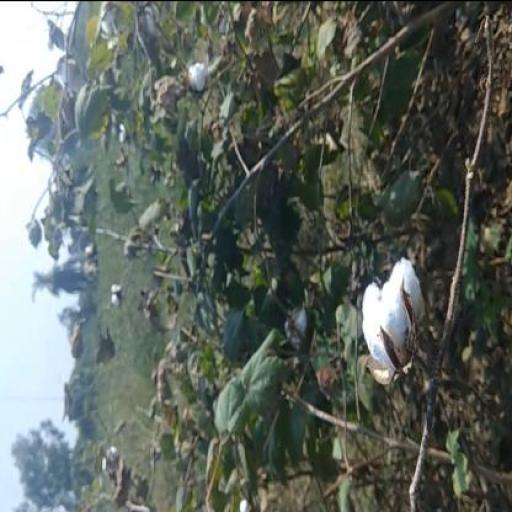cotton_ready: (354, 243, 448, 407)
